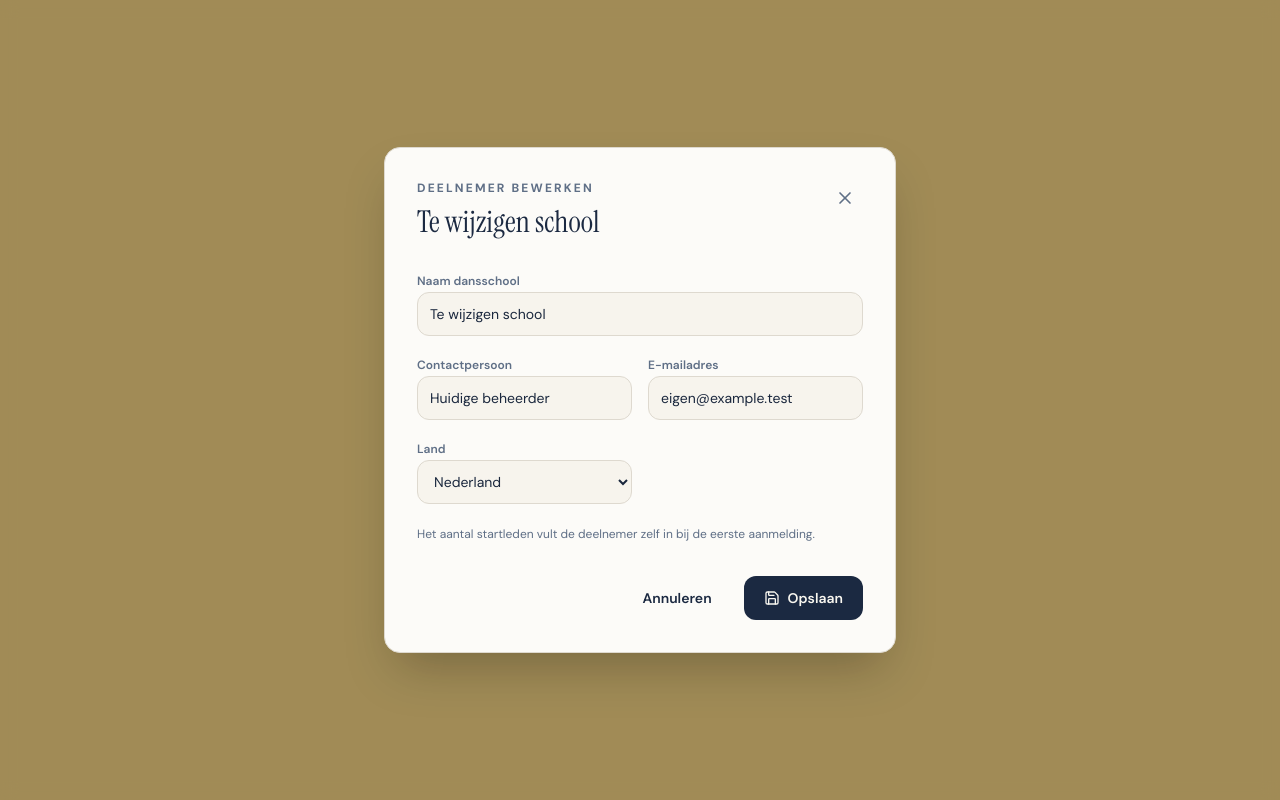
Test case: dubbele e-mailadressen in deelnemersbeheer › laat bij wijzigen de conflictmelding en gewijzigde waarden staan
Replace the text in the field with test id "input-participant-contact-name" with "Gewijzigde beheerder" at (524,398), box x1=417 y1=376 x2=632 y2=420
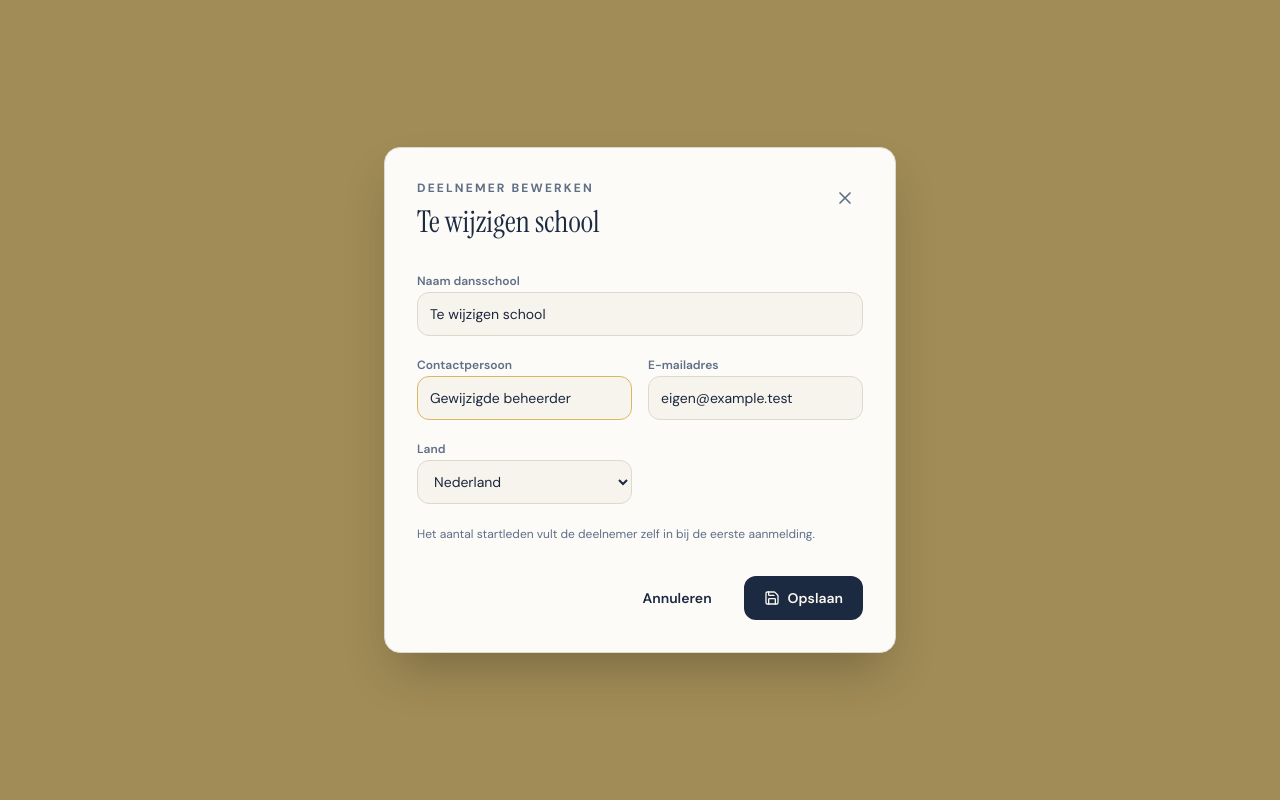
Replace the text in the field with test id "input-participant-email" with "BESTAAND@EXAMPLE.TEST" at (756,398), box x1=648 y1=376 x2=863 y2=420
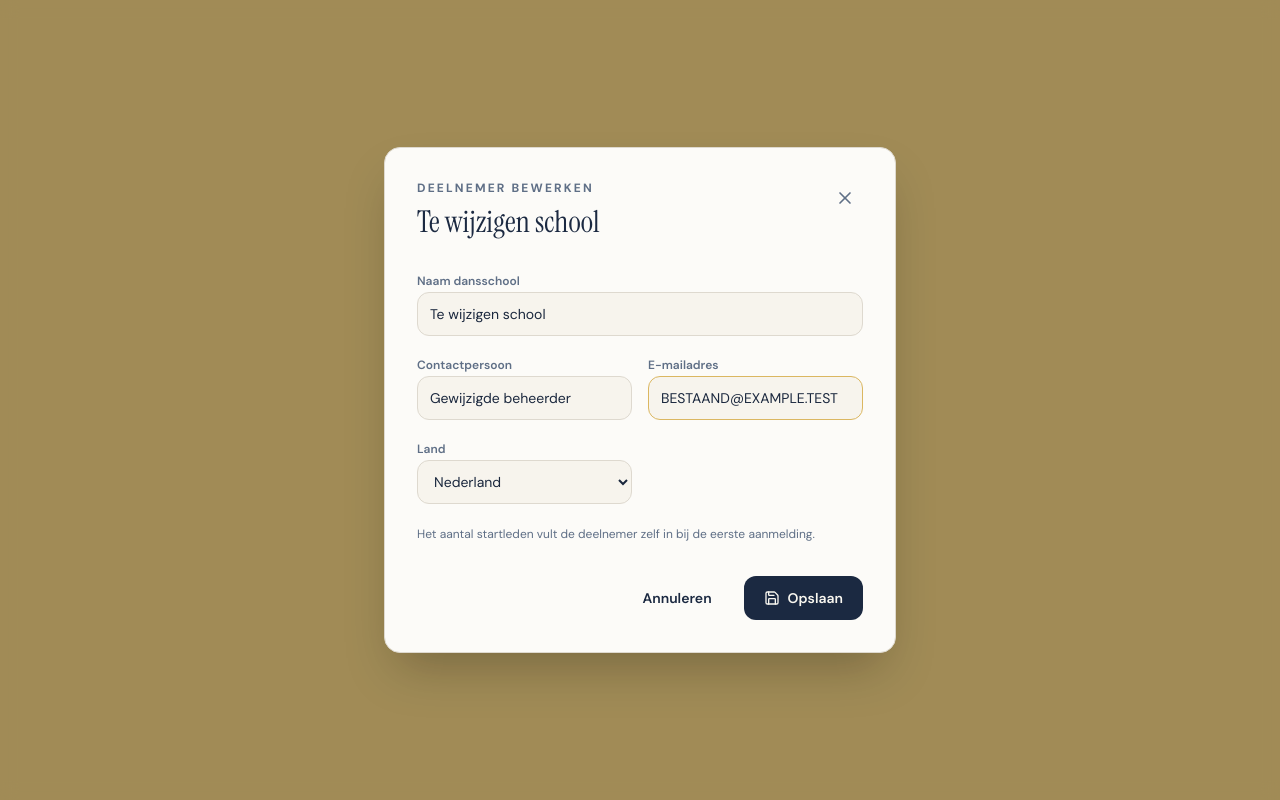
Click the button with test id "button-save-participant" at (803,598), box x1=744 y1=576 x2=863 y2=620
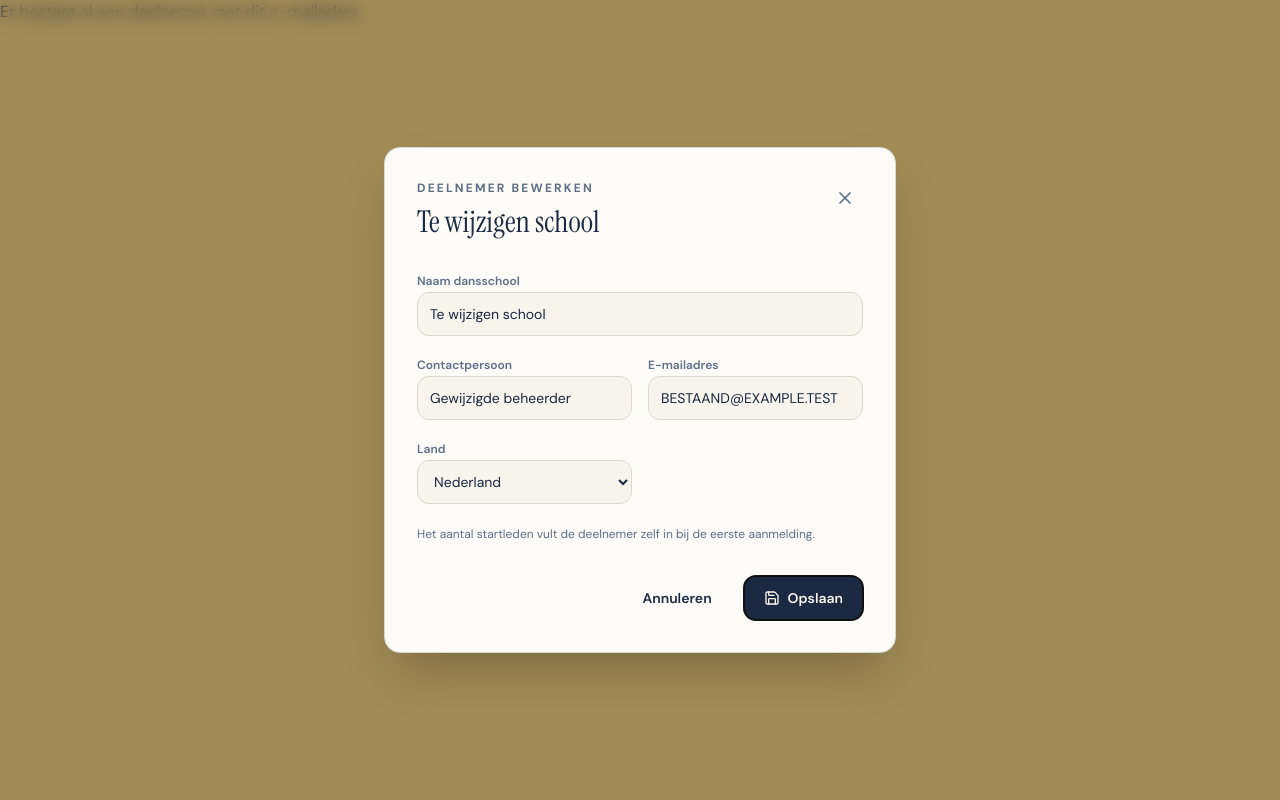
expect the message reads "Er bestaat al een deelnemer met dit e-mailadres.": met, box x1=0 y1=1 x2=362 y2=22
